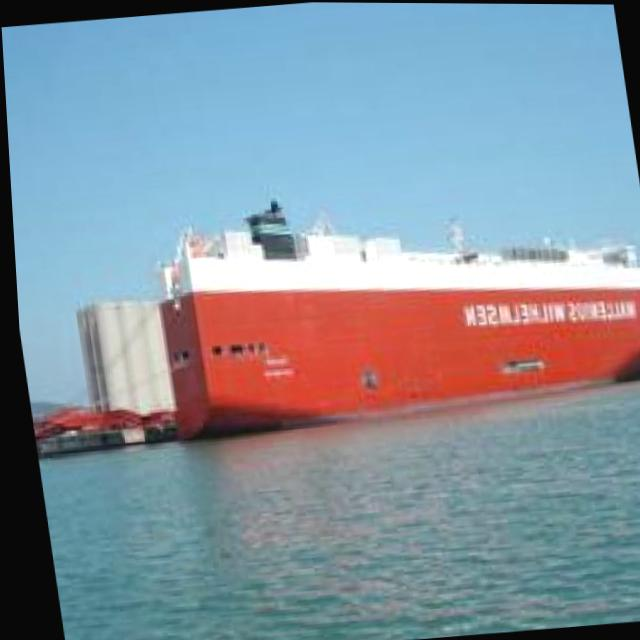ship2: (155, 197, 640, 441)
